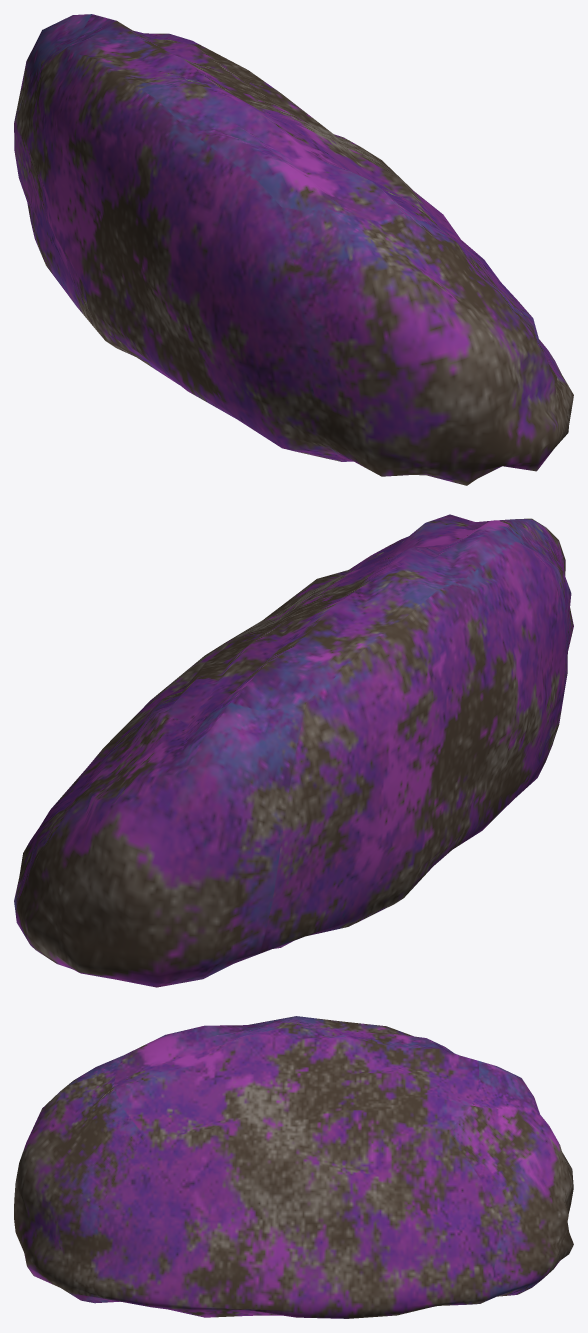
File: Roca2.obj
3 renders of one model, top to bottom at view 1: azimuth 30°, elevation 25°; view 2: azimuth 150°, elevation 25°; view 3: azimuth 270°, elevation 25°, orthographic. The views are drawn at different scales.
Parts seen in each view (by area): view 1: Cube.007_Cube.008; view 2: Cube.007_Cube.008; view 3: Cube.007_Cube.008.
Part boxes in pixels (x1,y1,x2,y2): Cube.007_Cube.008: (14,14,573,485); Cube.007_Cube.008: (14,514,573,987); Cube.007_Cube.008: (14,1016,573,1318).
Size of the model in its own units: 10.33 by 8.47 by 20.2.
Materials: 1 (1 with a texture image).
